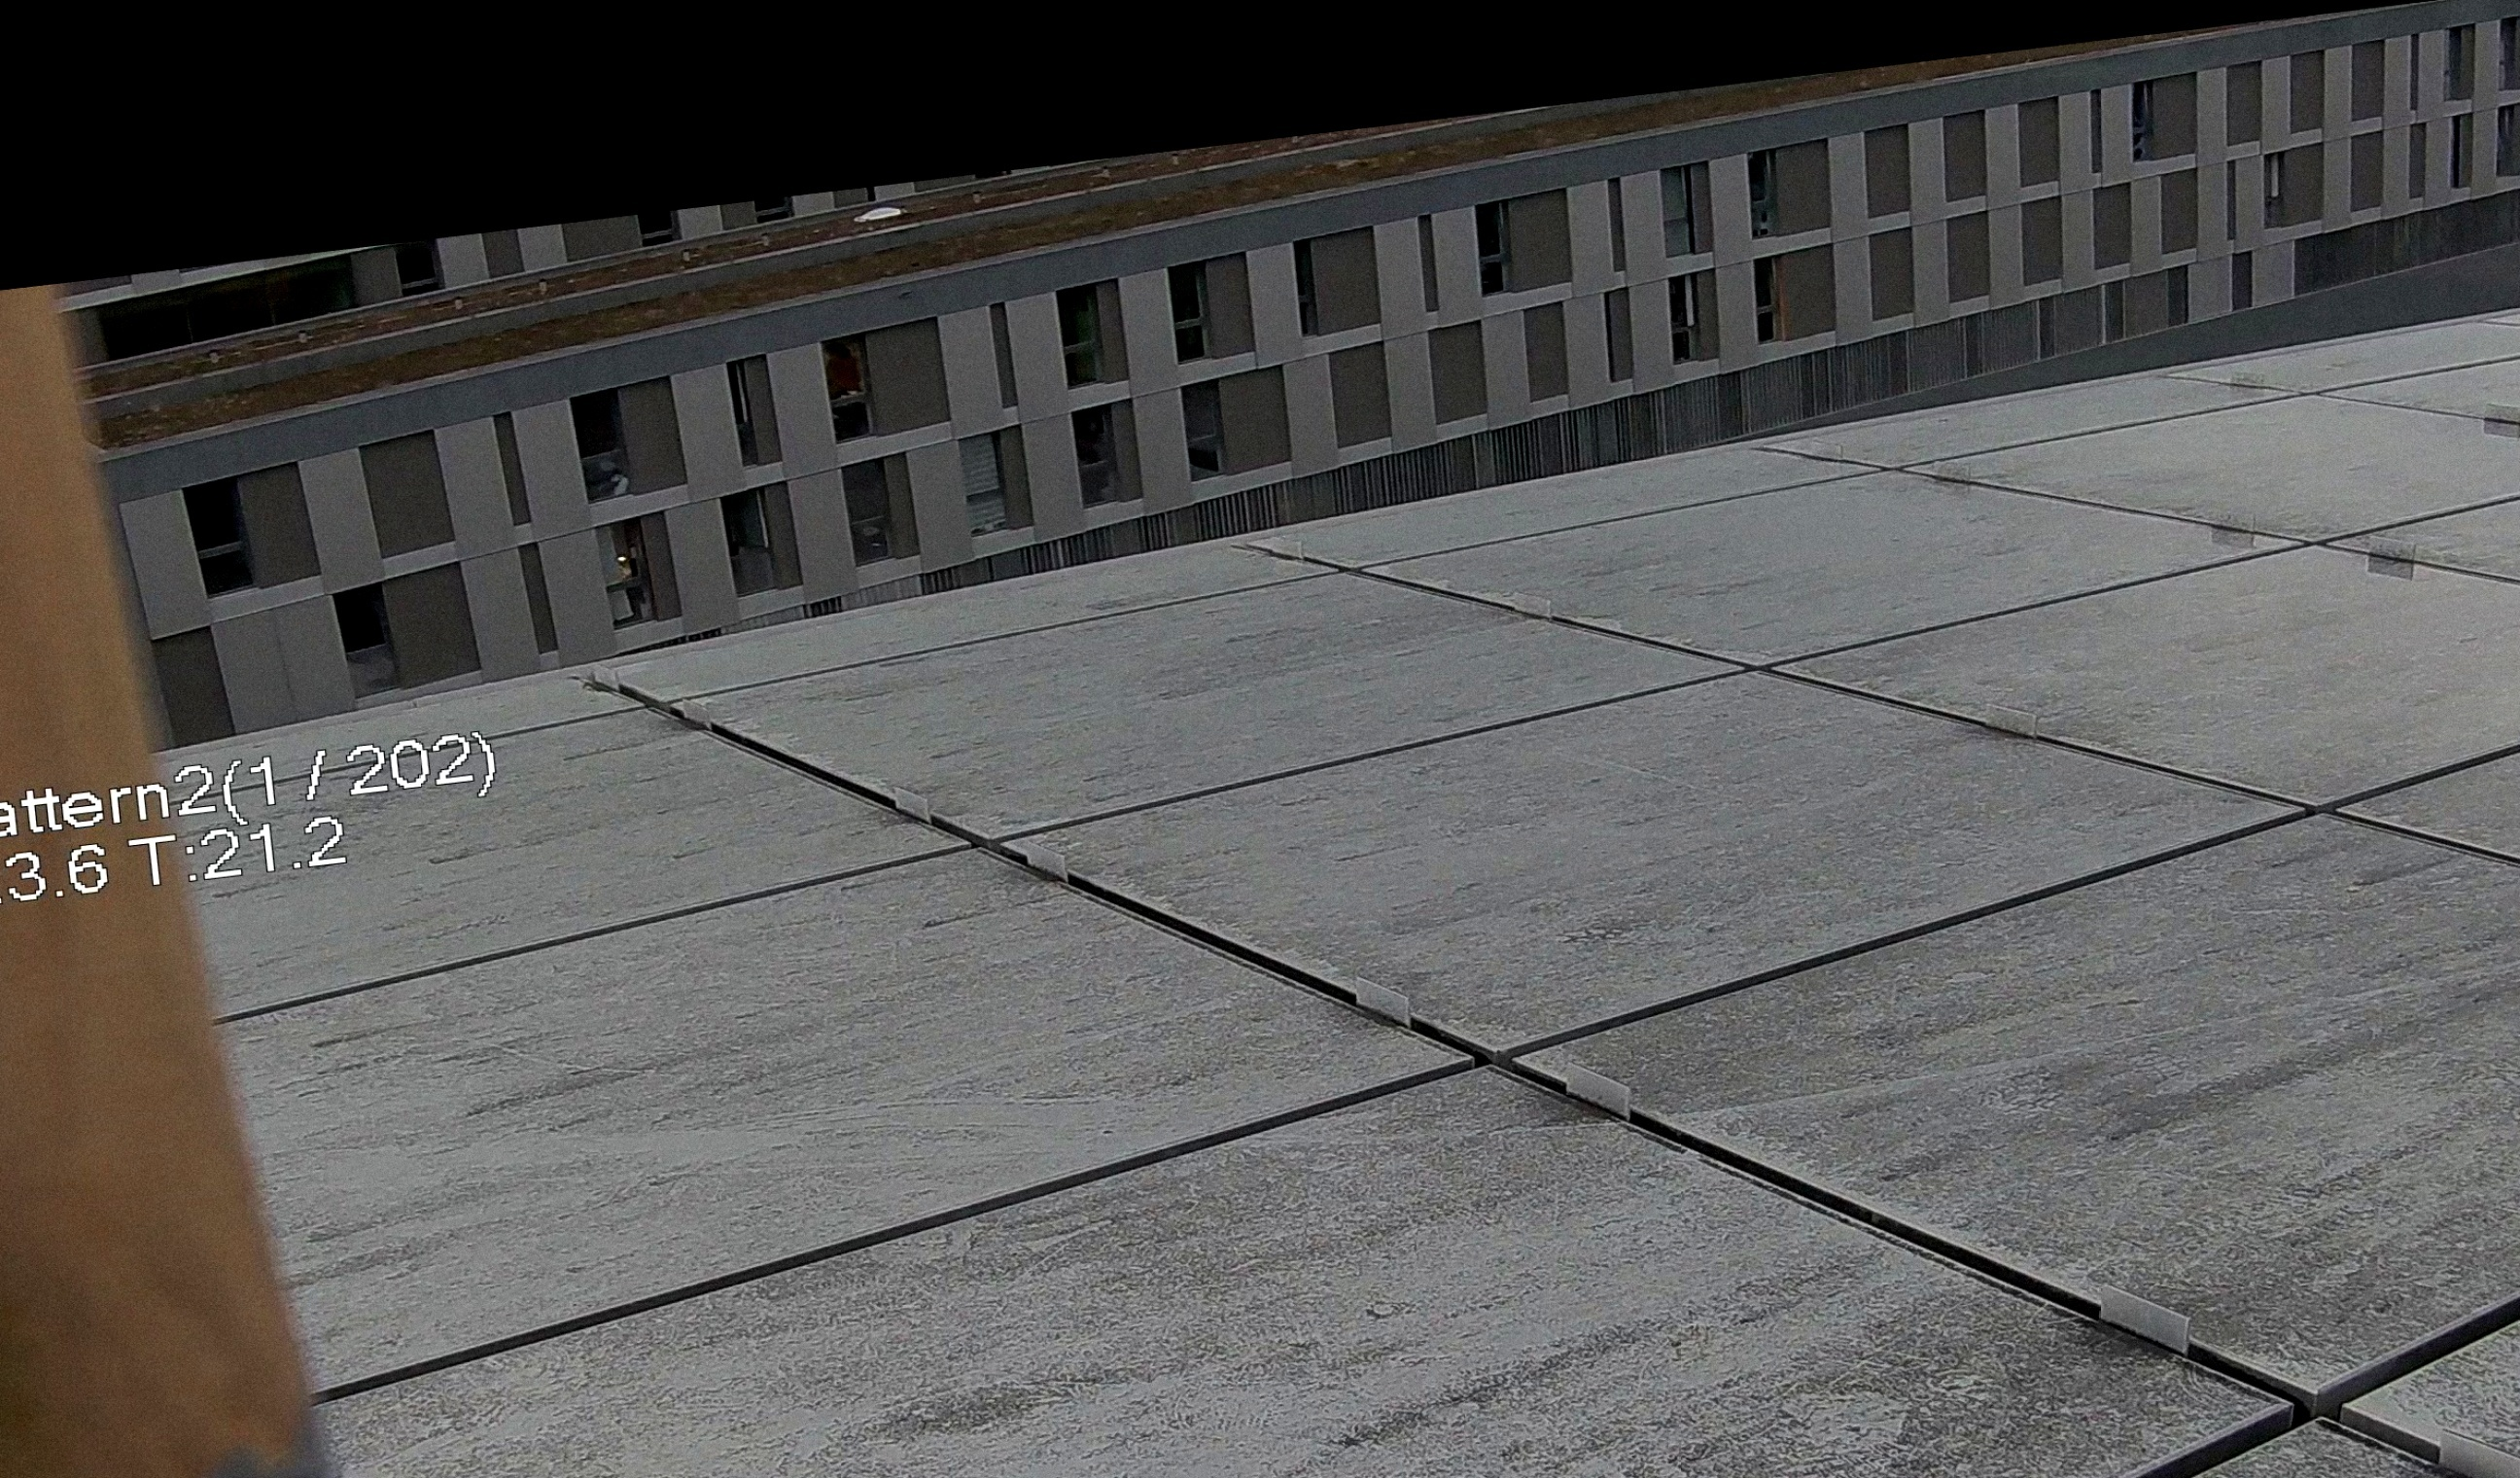Other: (0, 1117, 28, 1478)
